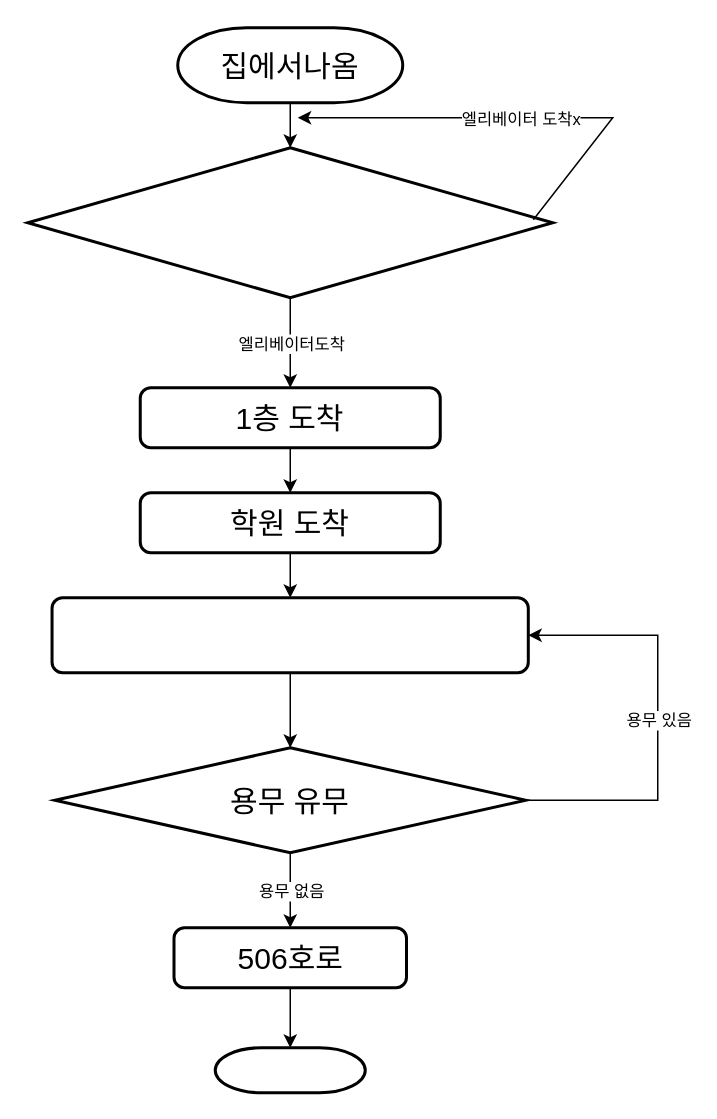
Image size: 717x1119. Some labels were removed from this diagram. Here are the shapes that lost their labels. From the top down, the centre of each, then its label:
the point at 290,222: 엘리베이터 탑승대기
the point at 289,635: 행정실 도착
the point at 289,1070: 종료
